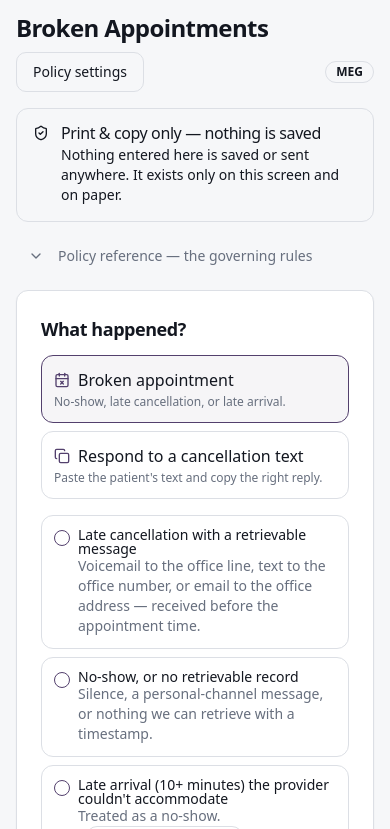
it: decision-first workspace › mode B late text produces reply, note with pasted text, and no Pop-Up at Rung 1
Click the button "Respond to a cancellation text": (195, 465) [41,431,349,499]
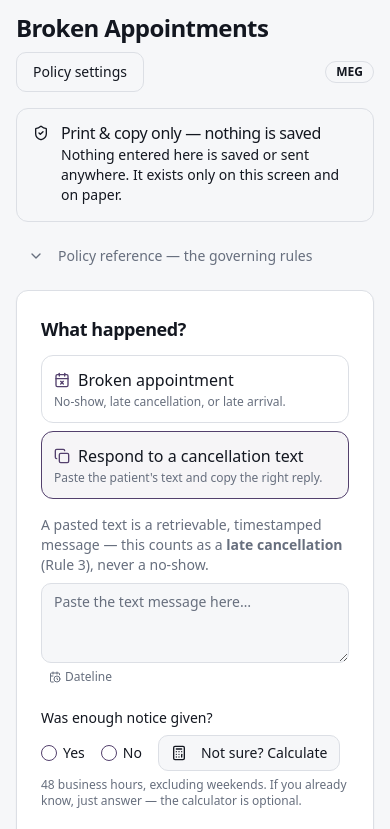
In the text box with placeholder "Paste the text message here…": (195, 623) [41,583,349,663], type "Running behind, cancel me please"
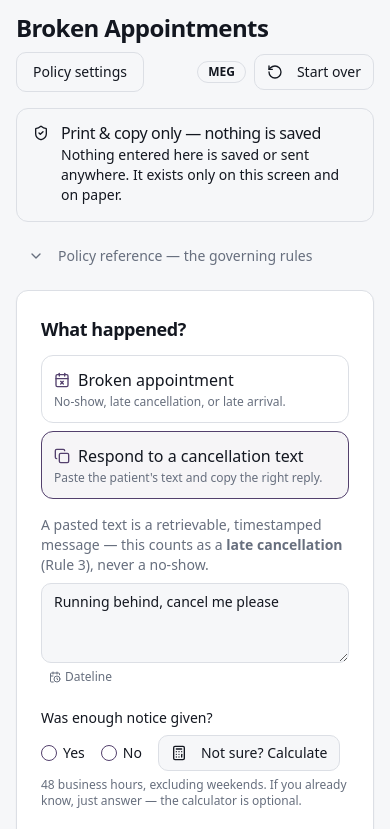
Click the 2nd radio button: (109, 753) [101,745,117,761]
(page scrolled)
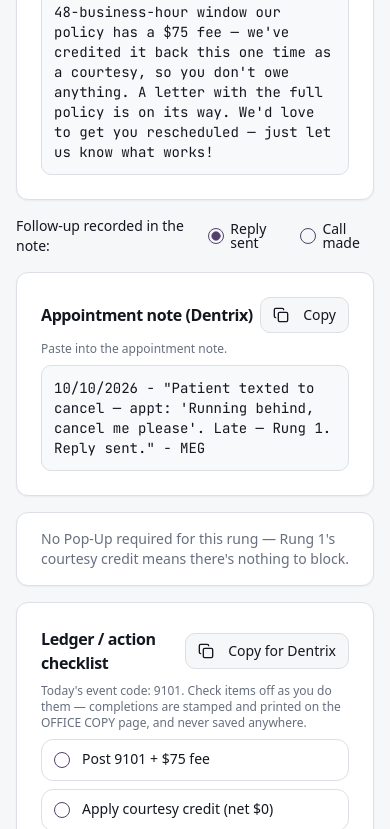
Check: the text "No Pop-Up required" is shown, box [41,529,349,568]
Check: the text "Patient texted to cancel" shows "'Running behind, cancel me please'", box [54,379,340,457]
